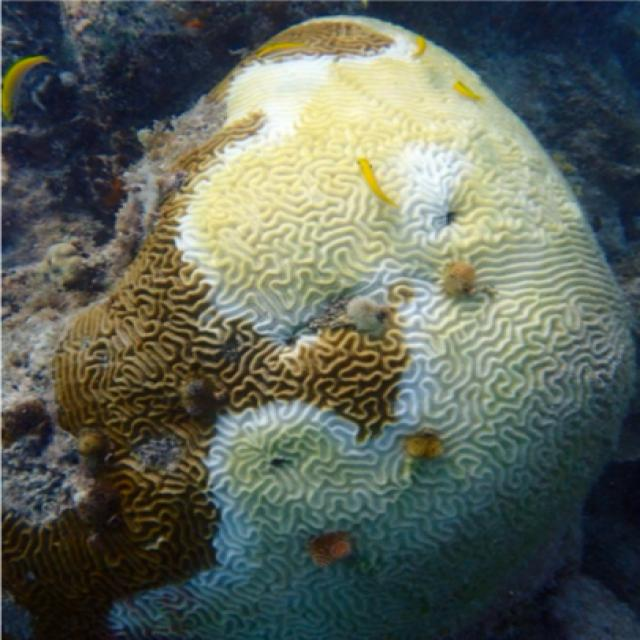Coral: (0, 13, 637, 640)
